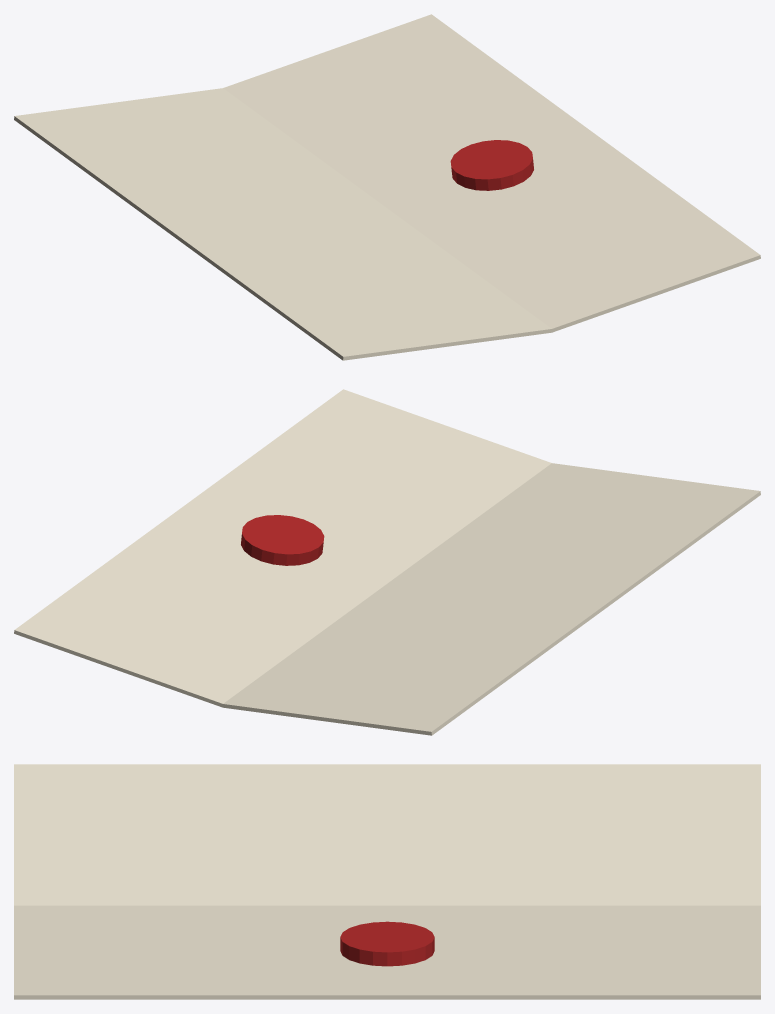
File: Prop_Manifest.fbx
The picture shows the model from 3 angles, top to bottom: view 1: azimuth 30°, elevation 25°; view 2: azimuth 150°, elevation 25°; view 3: azimuth 270°, elevation 25°; orthographic projection. The views are drawn at different scales.
Parts seen in each view (by area): view 1: Manifest_Paper, Manifest_Seal; view 2: Manifest_Paper, Manifest_Seal; view 3: Manifest_Paper, Manifest_Seal.
Boxes of the visible parts, box(x1,y1,x2,y2) form: Manifest_Paper: box(14, 14, 760, 360); Manifest_Seal: box(450, 140, 533, 190); Manifest_Paper: box(14, 389, 760, 735); Manifest_Seal: box(241, 515, 324, 565); Manifest_Paper: box(14, 764, 760, 999); Manifest_Seal: box(340, 921, 434, 966).
Size of the model in its own units: 0.1394 by 0.0099 by 0.19.
